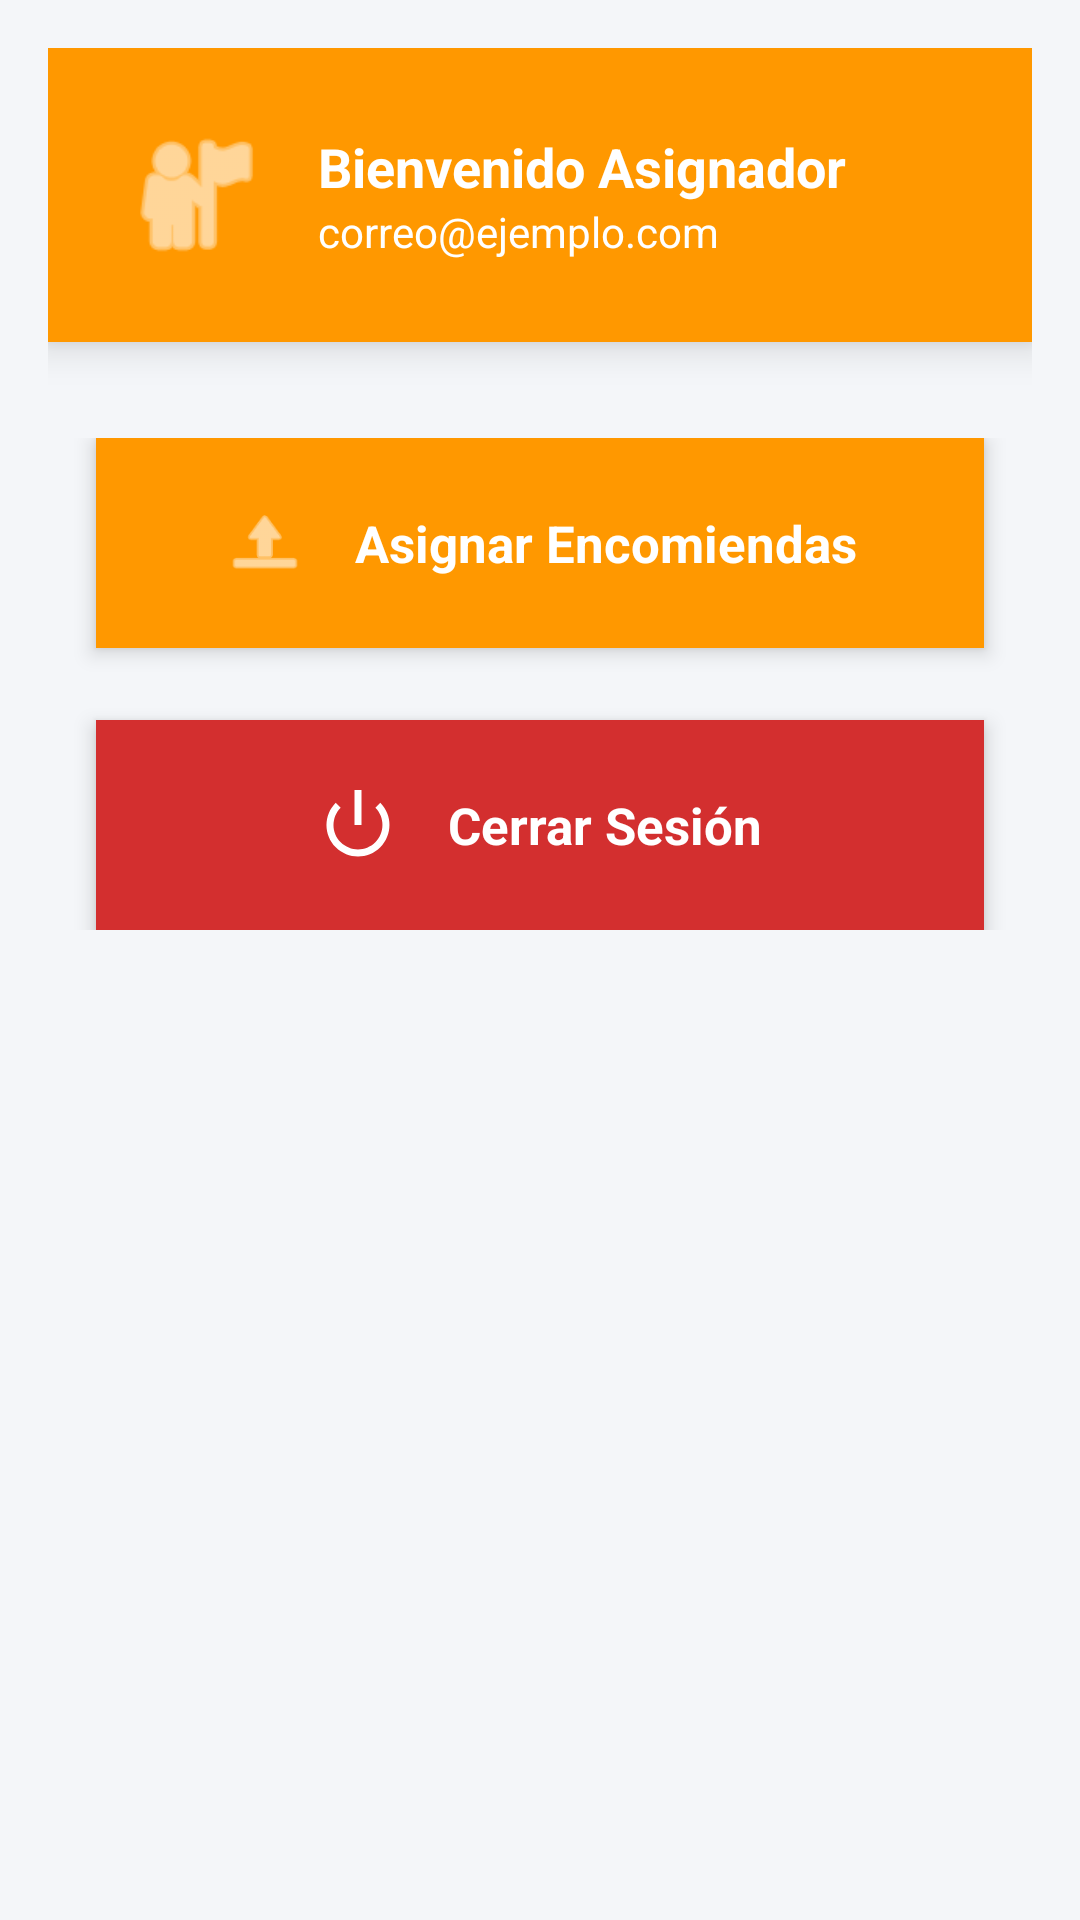

Named icons in this screenshot (1080w x 1920h) and their bounding boxes, box=[x1, y1, x2, y2]:
lock power off: box=[326, 790, 390, 857]
myplaces: box=[140, 139, 253, 251]
upload: box=[233, 515, 297, 569]
